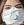with_mask: (2, 2, 24, 25)
